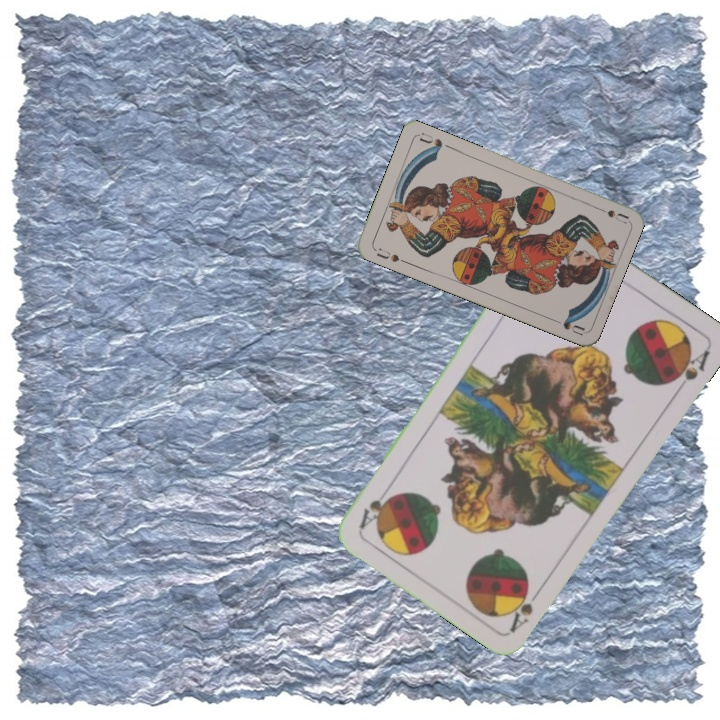SA: (506, 582, 546, 635)
SU: (590, 202, 630, 226), (372, 244, 409, 266)
